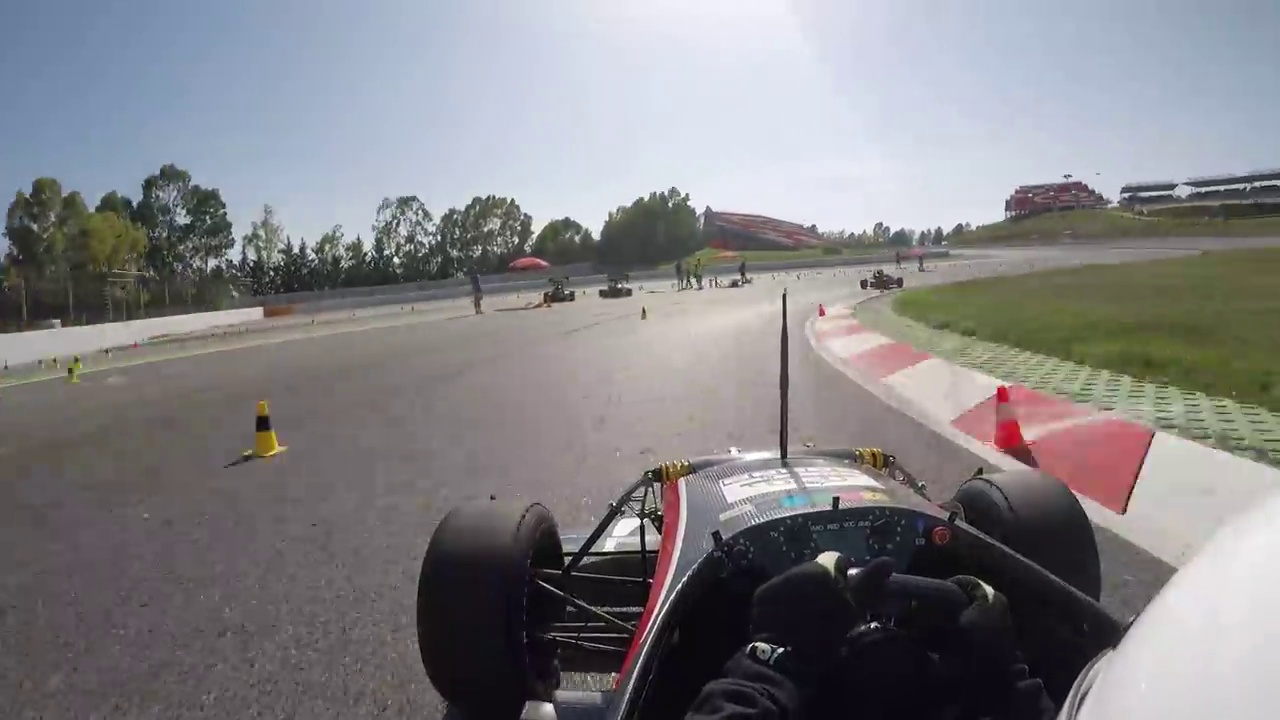Cone: (990, 384, 1032, 457), (245, 399, 290, 463)
